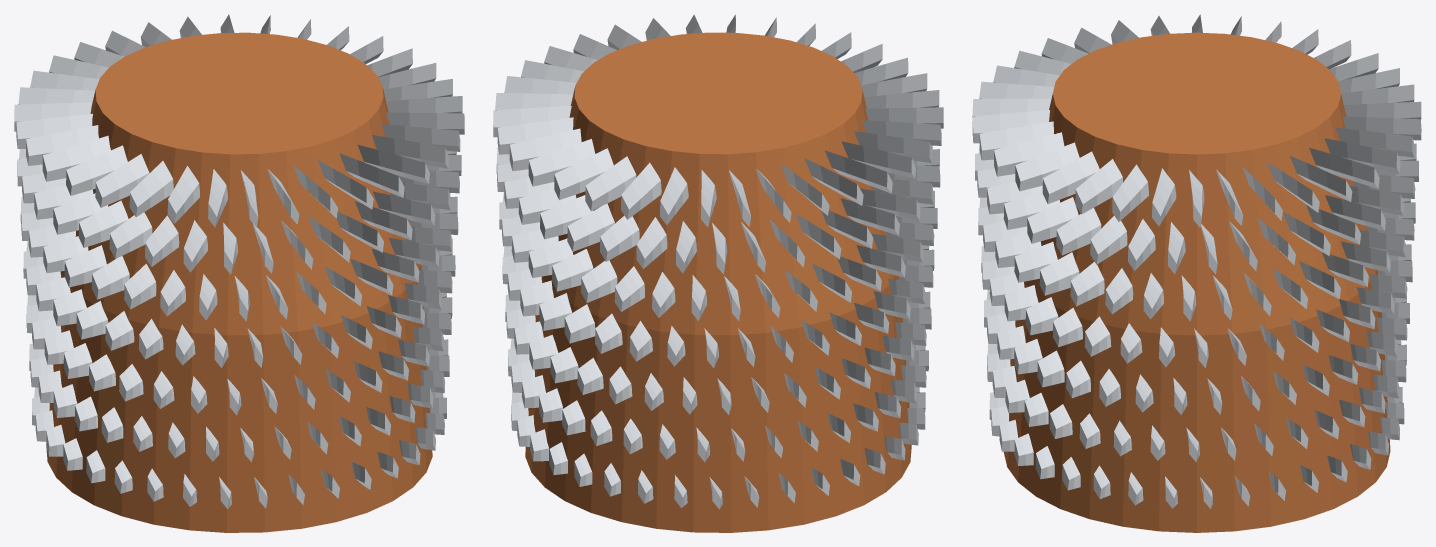
Rendered from comprotor_quality.glb.
3 renders of one model, left to right at view 1: azimuth 30°, elevation 25°; view 2: azimuth 150°, elevation 25°; view 3: azimuth 270°, elevation 25°, orthographic.
Parts seen in each view (by area): view 1: comprotor_quality; view 2: comprotor_quality; view 3: comprotor_quality.
Boxes of the visible parts, x1=… form: comprotor_quality: x1=14, y1=14, x2=464, y2=532; comprotor_quality: x1=493, y1=14, x2=943, y2=532; comprotor_quality: x1=972, y1=14, x2=1421, y2=532.
Bounding box in the file's own units: 0.2372 × 0.232 × 0.2367.
